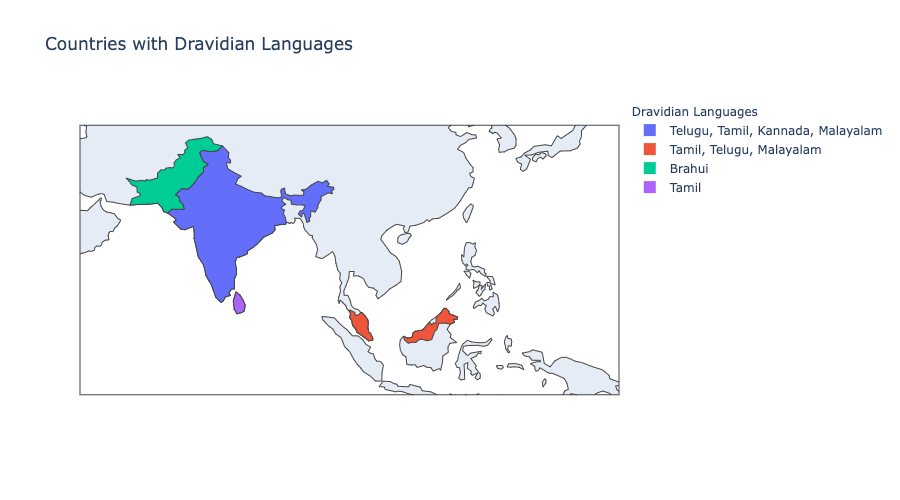

What the dashboard file says about the page in this screenshot:
{"tool":"tableau","page":{"name":"Dashboard 2","canvas":[650,860],"ordinal":1},"visuals":[{"type":"worksheet","title":"Sheet 3","mark":"Multipolygon","box":[8,9.8,474,840.3]},{"type":"legend","title":"Sheet 3","param":"[federated.18ai2ps00hkj1114wkhbp0jn7sxn].[none:CONTINENT:nk]","box":[482,9.8,160,253.4]}]}

Visuals, with their boxes on the page's 650x860 design canvas (x1, y1, x2, y2). These are canvas units, not pixel positions in the 900x500 screenshot, which may show the page scaled, cropped or inside an application window:
"Sheet 3" worksheet (Multipolygon marks): region(8, 10, 482, 850)
"Sheet 3" legend: region(482, 10, 642, 263)
